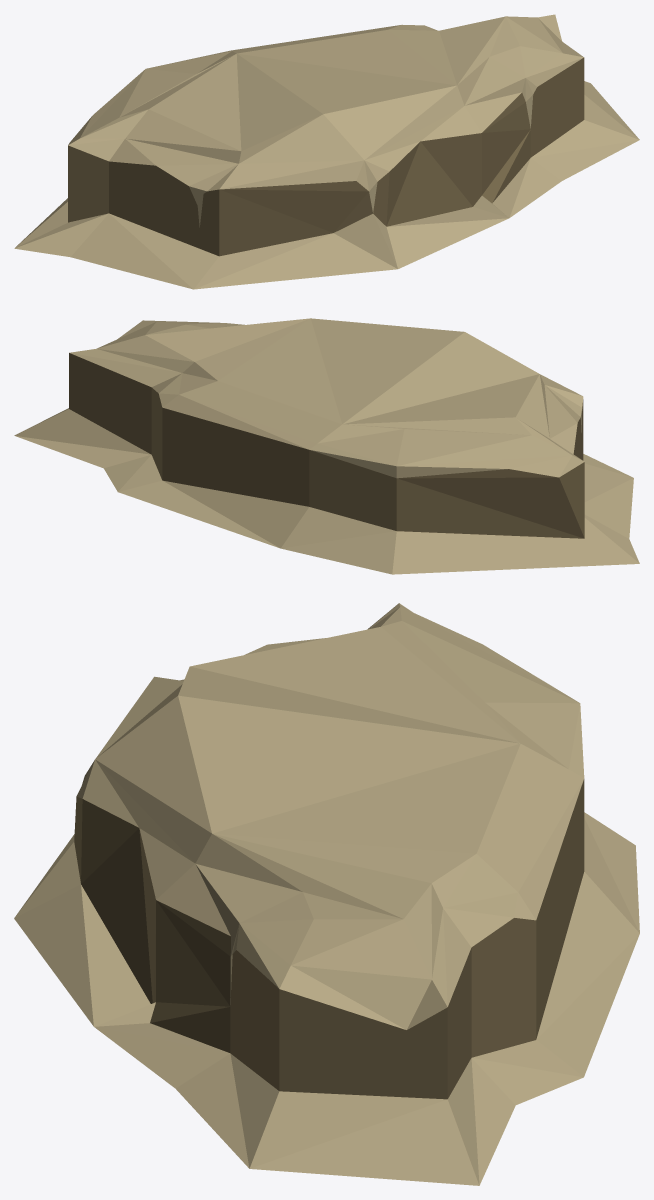
The model's file is Ground_05_B.FBX.
3 renders of one model, top to bottom at view 1: azimuth 30°, elevation 25°; view 2: azimuth 150°, elevation 25°; view 3: azimuth 270°, elevation 25°, orthographic. The views are drawn at different scales.
Visible parts, largest first — view 1: Ground_05_B; view 2: Ground_05_B; view 3: Ground_05_B.
Boxes of the visible parts, x1,y1,x2,y2 form: Ground_05_B: [14, 14, 639, 289]; Ground_05_B: [14, 318, 639, 574]; Ground_05_B: [14, 603, 639, 1185].
Size of the model in its own units: 19.23 by 3.8 by 10.59.
